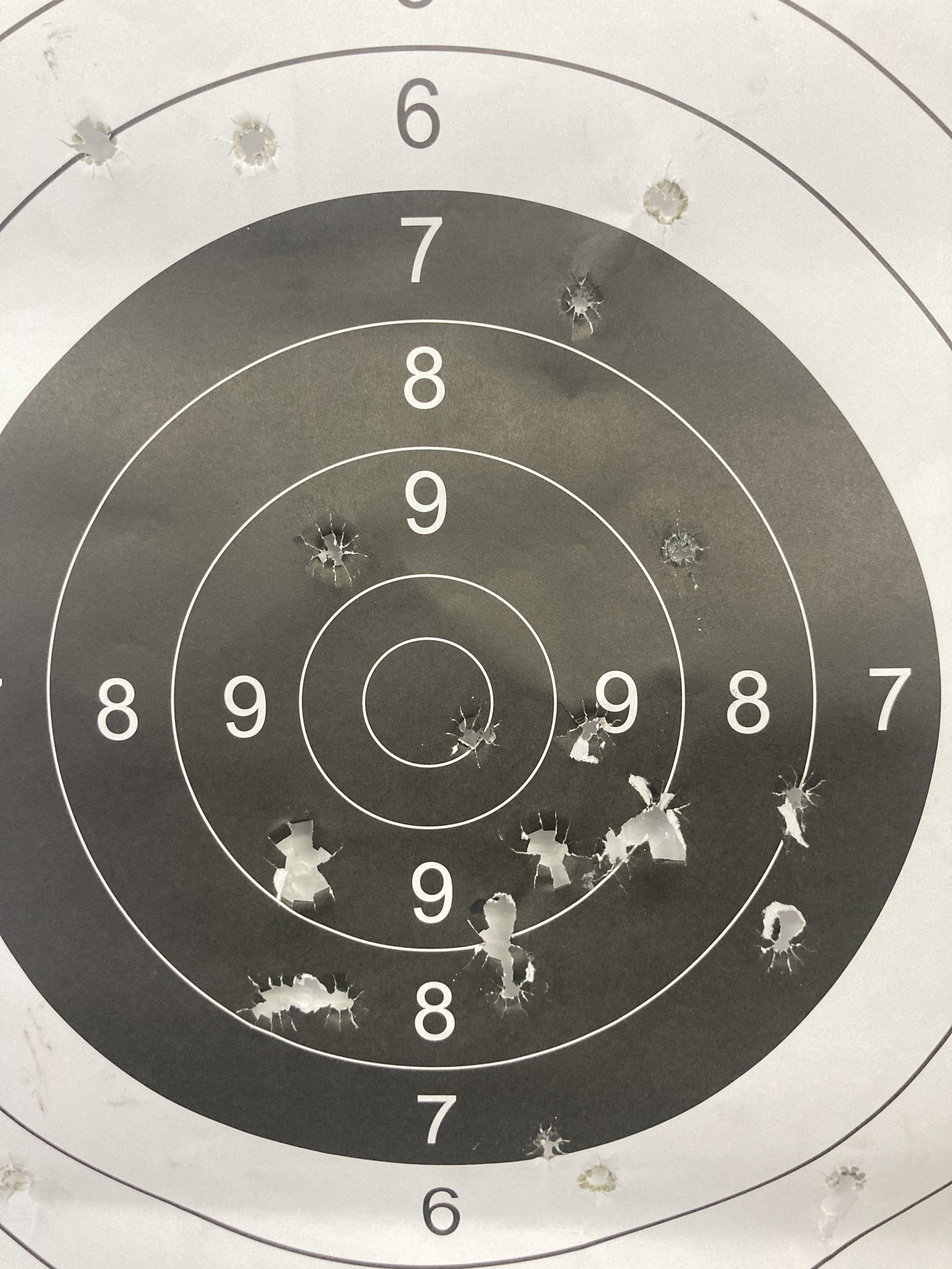hole: (254, 811, 363, 915), (605, 791, 694, 900), (463, 955, 560, 1025), (746, 888, 821, 975), (286, 512, 366, 585), (627, 172, 704, 239), (555, 269, 622, 346), (55, 102, 124, 172), (458, 888, 530, 955), (216, 109, 281, 182), (244, 963, 304, 1042), (766, 761, 826, 838), (560, 699, 624, 769), (448, 699, 510, 769), (654, 512, 717, 575), (304, 968, 368, 1027), (525, 816, 580, 883), (532, 1102, 575, 1179), (565, 1159, 632, 1206), (825, 1158, 877, 1214), (0, 1144, 37, 1217)
